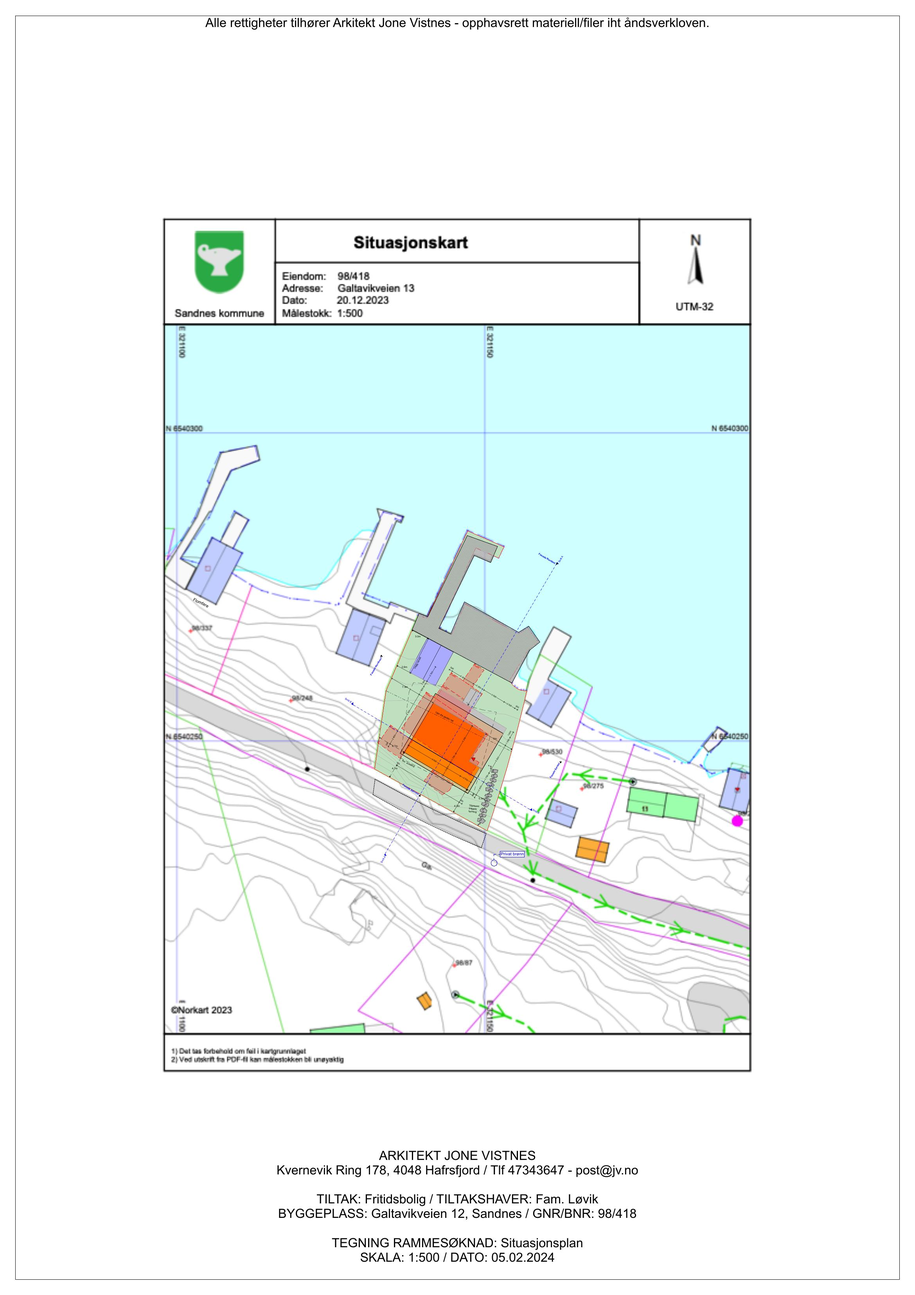situasjonskart: (160, 321, 753, 1038)
